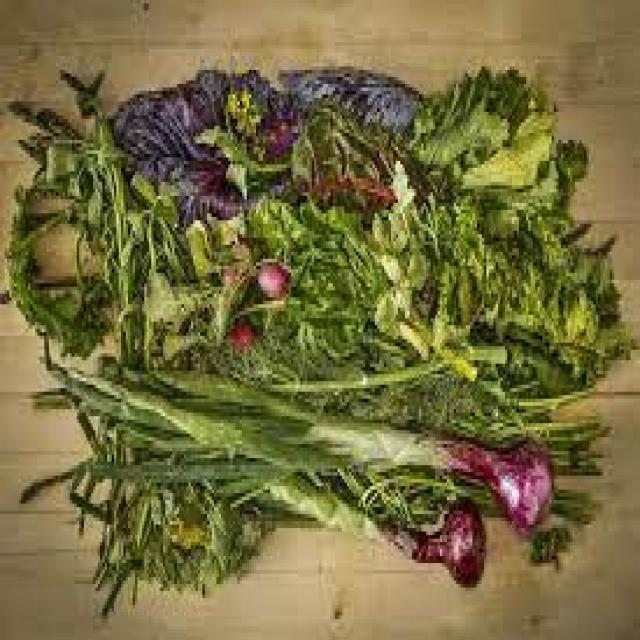Organik: (0, 44, 640, 602), (215, 235, 308, 370)
